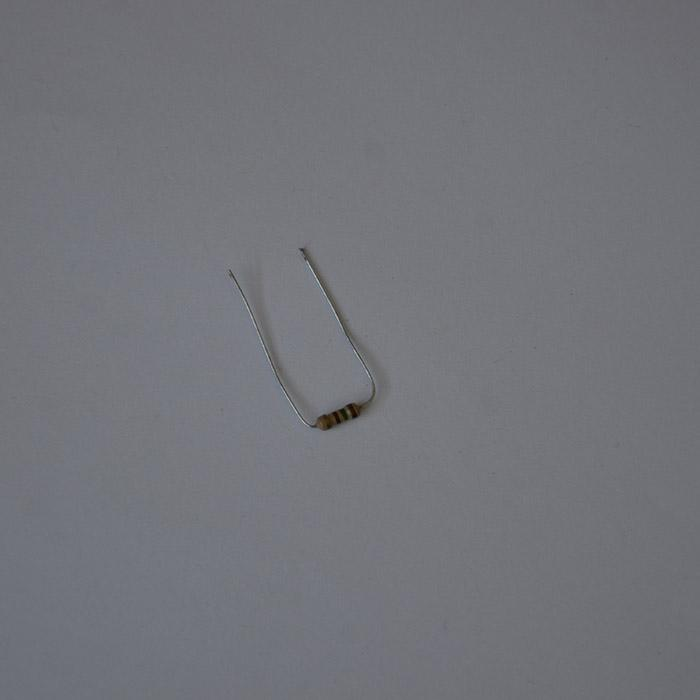resistor: (315, 402, 359, 430)
